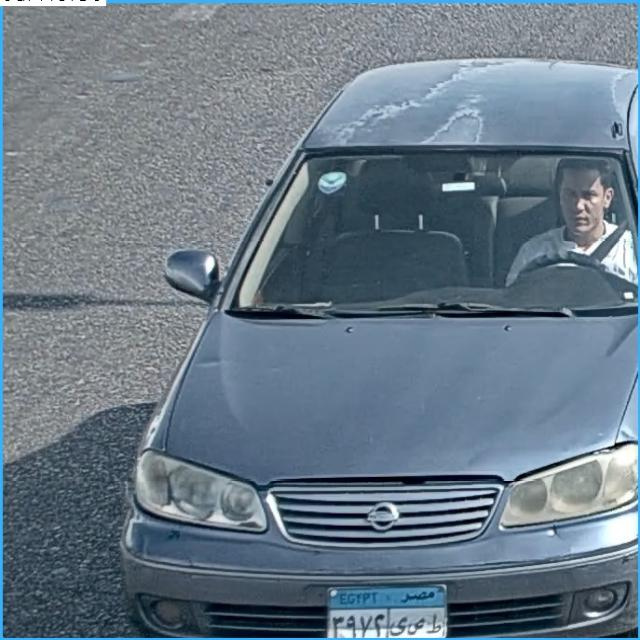windshield: (236, 147, 640, 308)
